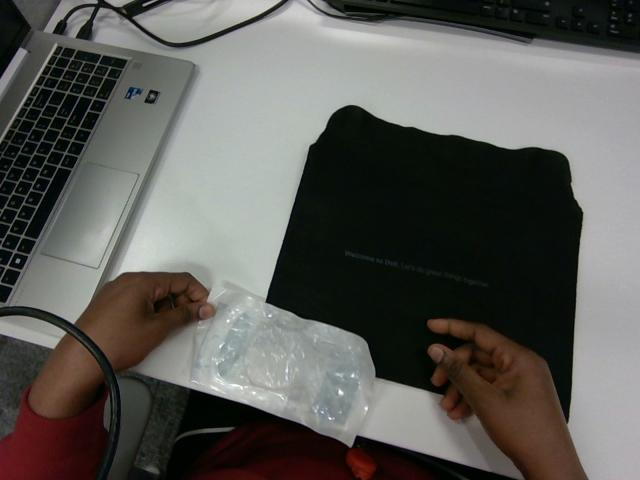gallipot: (191, 286, 374, 445)
